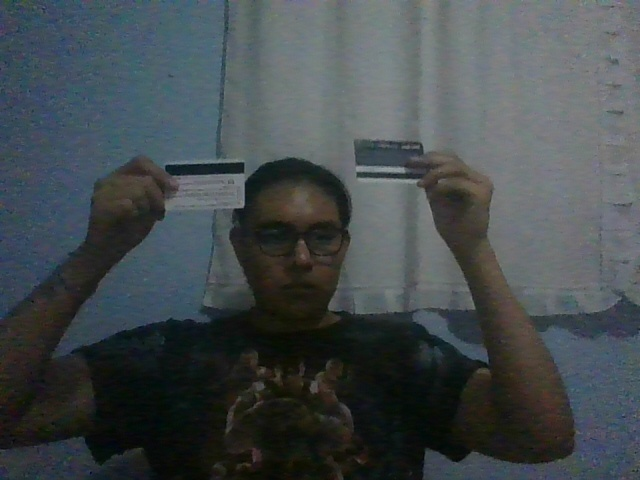tarjeta: (163, 158, 246, 212), (352, 138, 426, 184)
